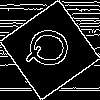Q: (25, 25, 79, 72)
